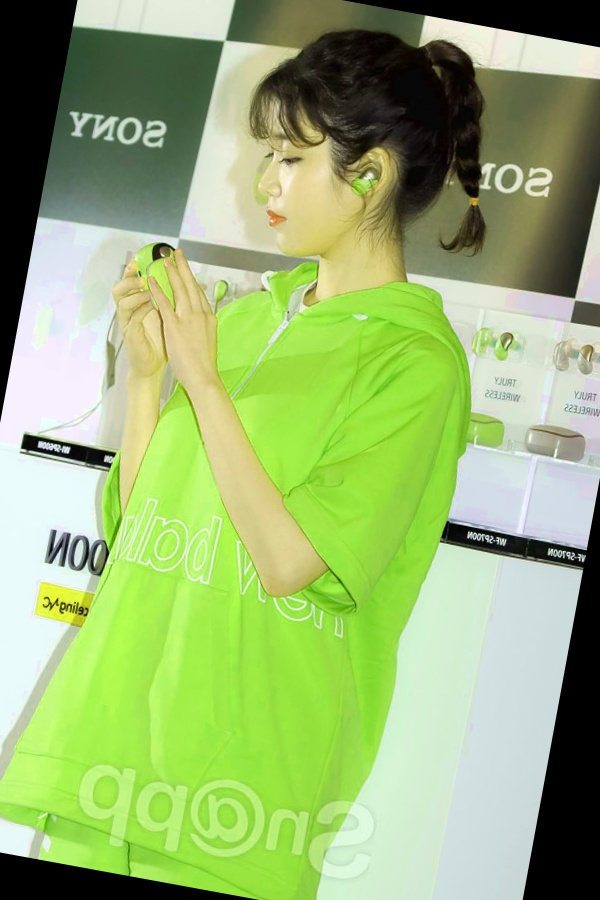earphone: (345, 143, 394, 203)
